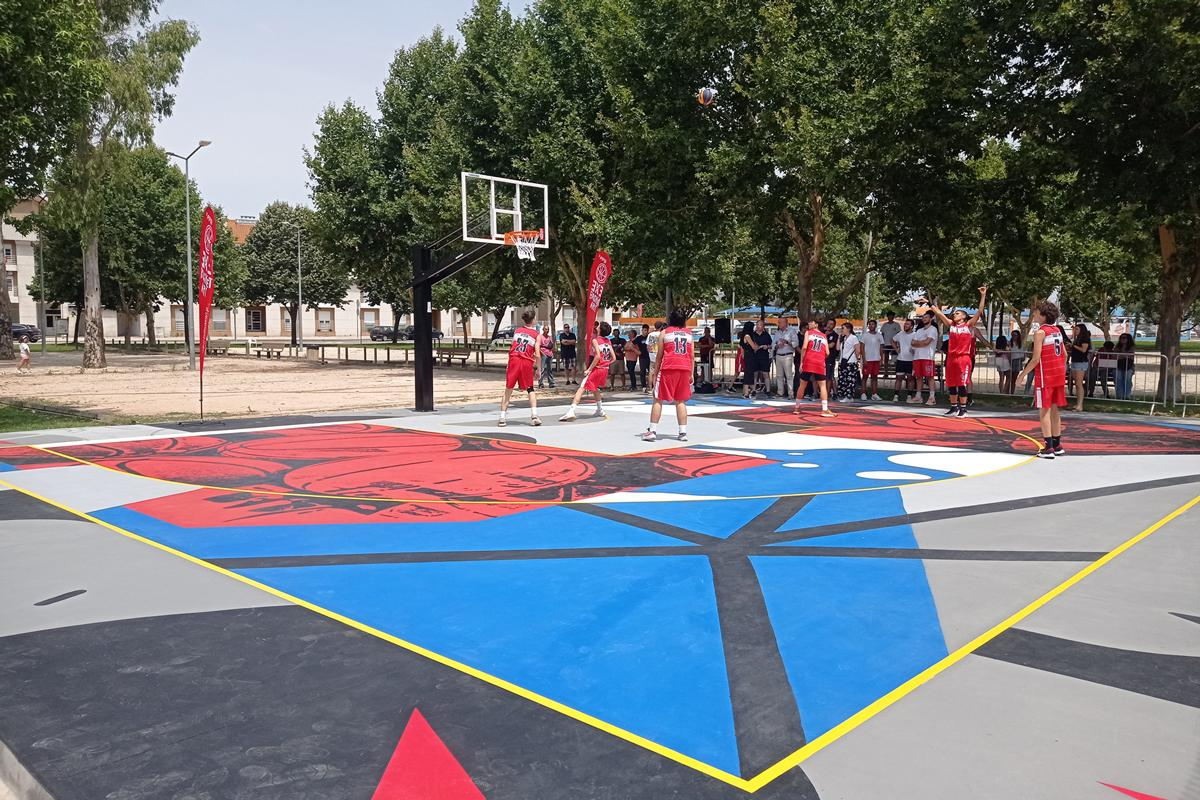basketball: (699, 87, 714, 105)
